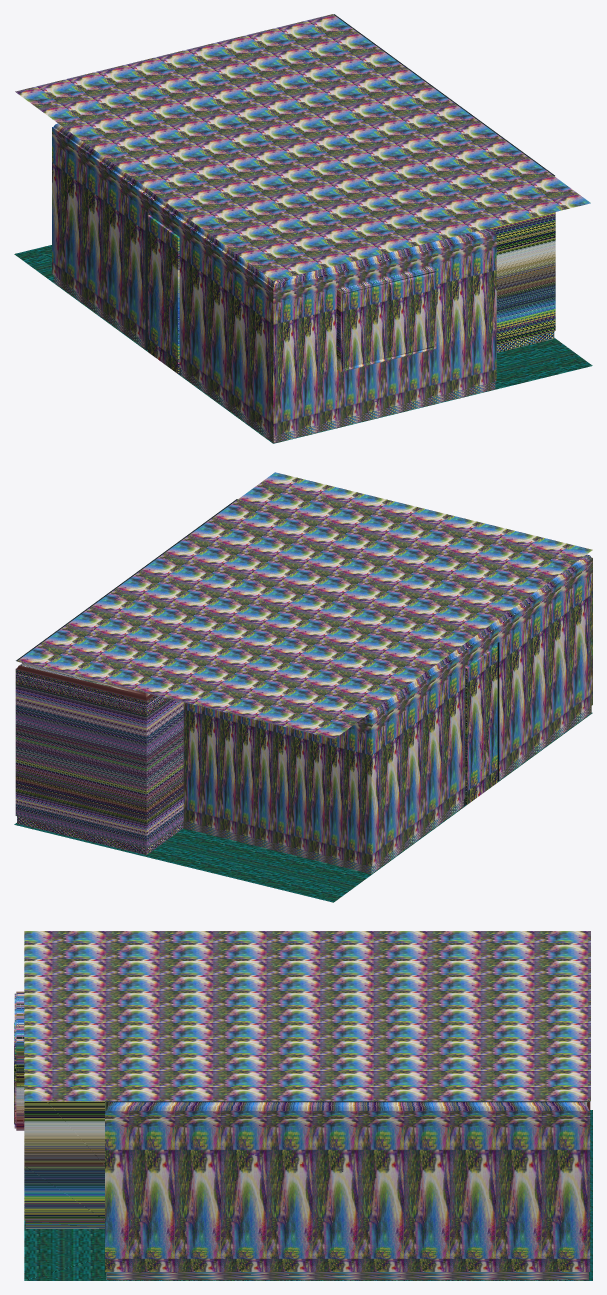
The model's file is houseofmusic.glb.
3 views of the same model, one above another, from view 1: azimuth 30°, elevation 25°; view 2: azimuth 150°, elevation 25°; view 3: azimuth 270°, elevation 25° (orthographic). The views are drawn at different scales.
Parts seen in each view (by area): view 1: floor; view 2: floor; view 3: floor.
Part boxes in pixels (box(x1,y1,x2,y2)): floor: box(14, 14, 592, 443); floor: box(14, 472, 592, 902); floor: box(14, 931, 592, 1280).
Bounding box in the file's own units: 5.01 × 2.44 × 7.16.
Materials: 3 (3 with a texture image).
